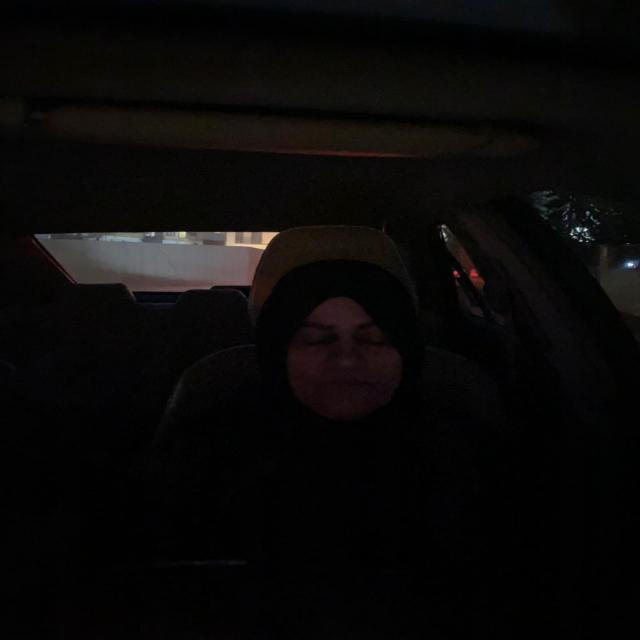drowsy: (259, 253, 421, 427)
